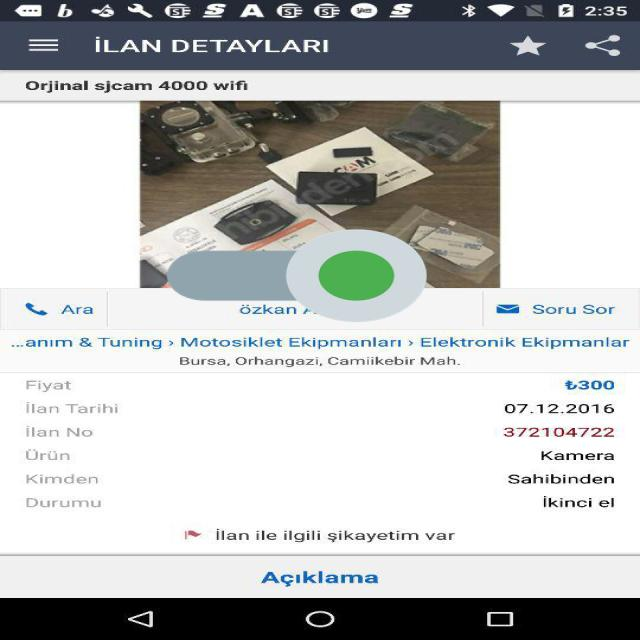social proof: (167, 190, 427, 361)
